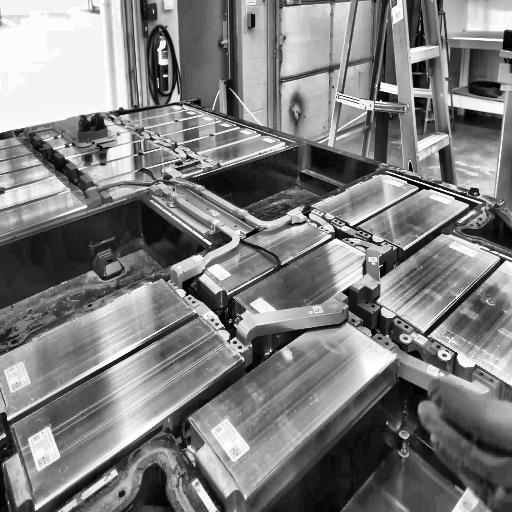battery_module: (10, 316, 243, 509), (189, 313, 397, 501), (0, 278, 197, 422), (235, 239, 383, 338), (195, 213, 331, 292)
busbar: (94, 156, 502, 401), (14, 109, 106, 209), (102, 103, 225, 174)
